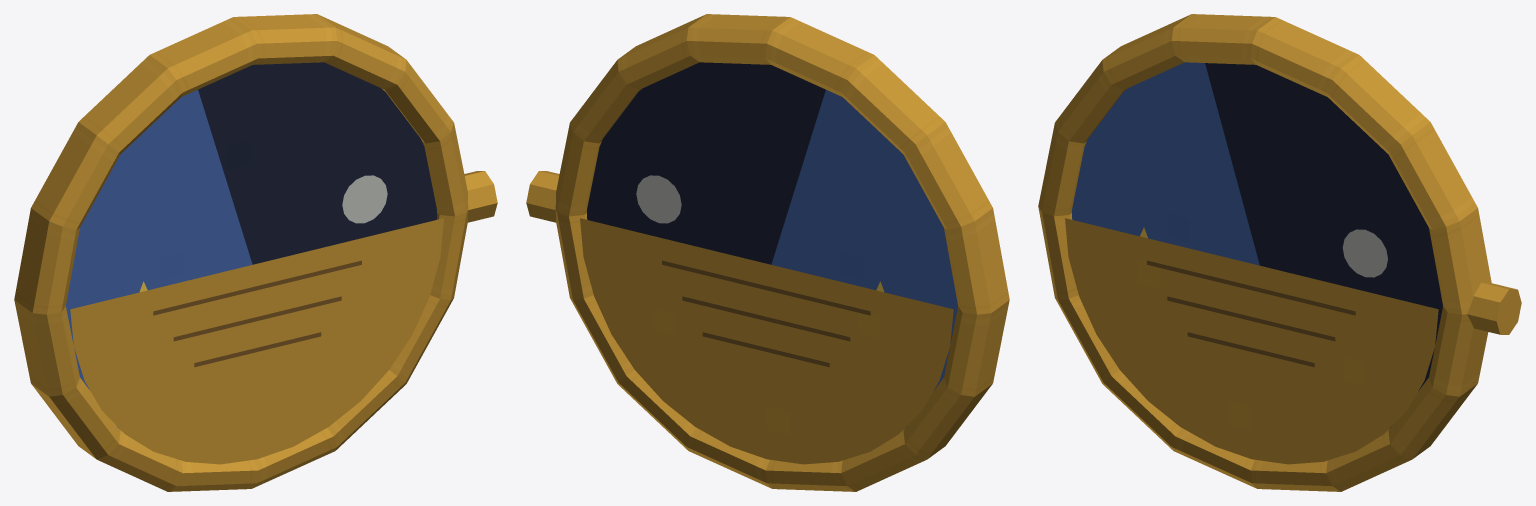
The model's file is clock_45.obj.
3 renders of one model, left to right at view 1: azimuth 30°, elevation 25°; view 2: azimuth 150°, elevation 25°; view 3: azimuth 330°, elevation 25°, orthographic.
Bounding box in the file's own units: 0.6363 × 0.6037 × 0.075.
